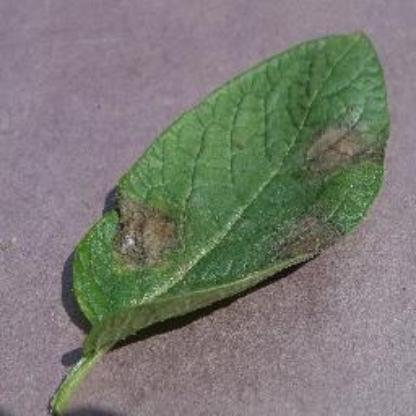Late-Blight: (31, 26, 411, 413)
